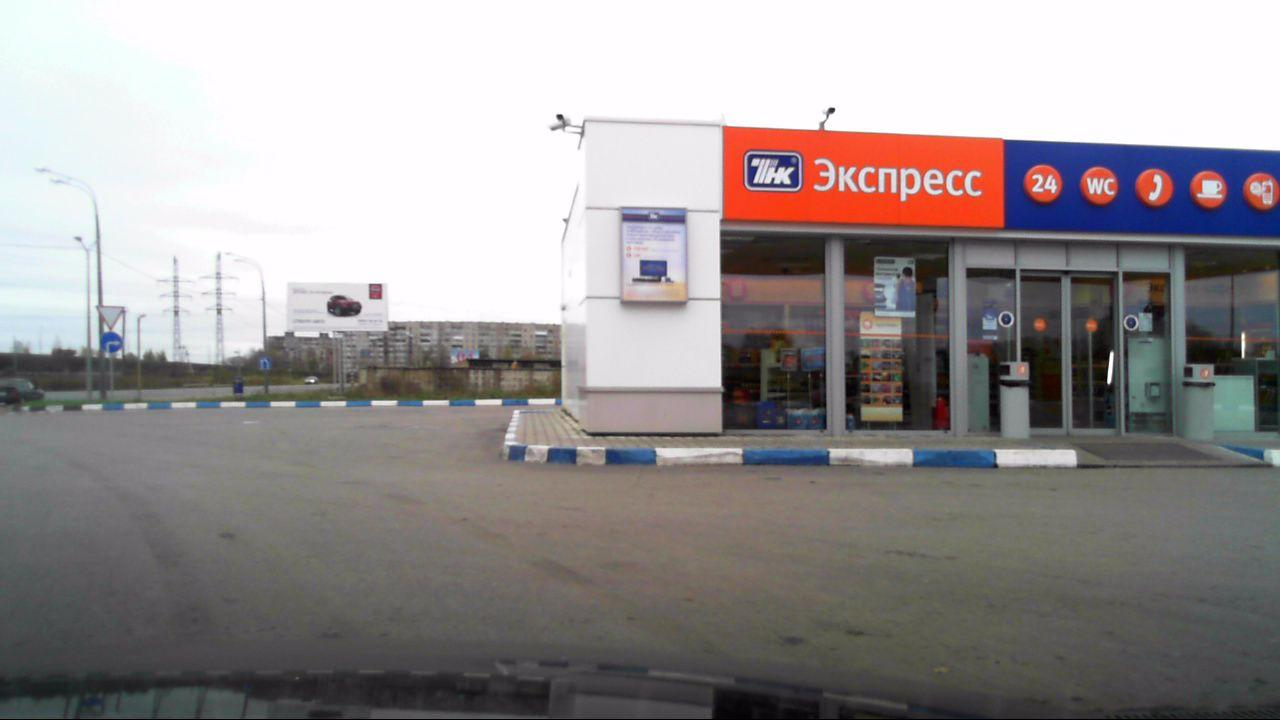road_sign: (95, 306, 126, 330), (99, 332, 123, 353)
